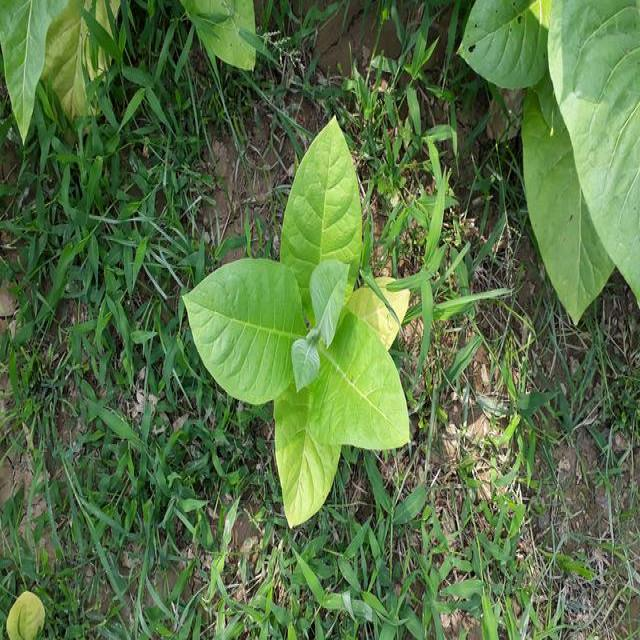crop: (175, 112, 417, 533)
